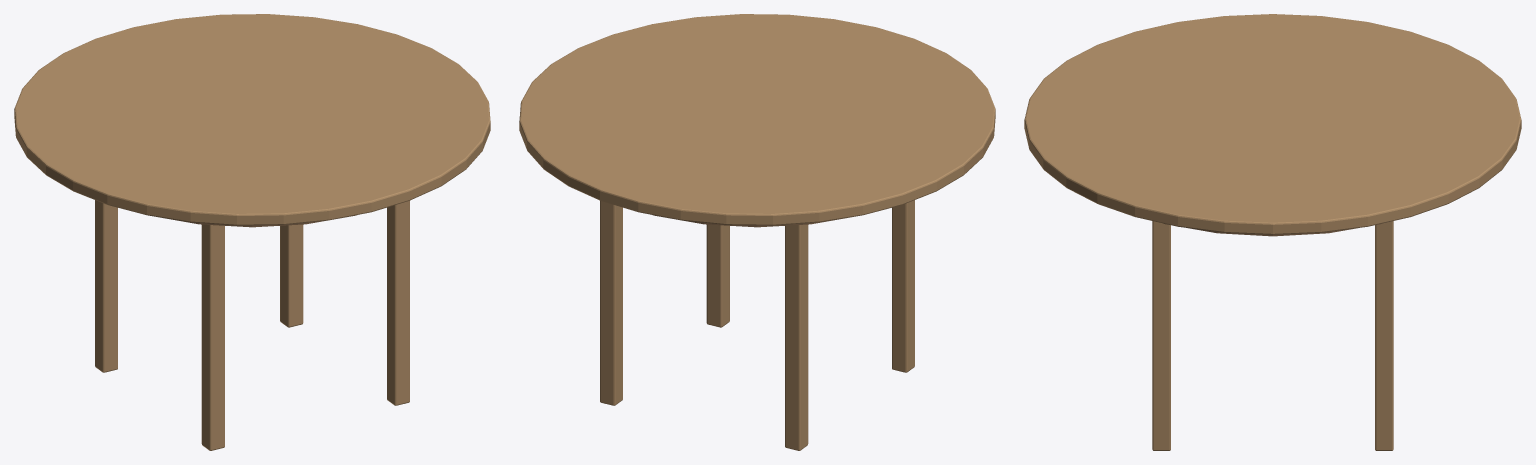
File: furniture-dining-table.glb
3 renders of one model, left to right at view 1: azimuth 30°, elevation 25°; view 2: azimuth 150°, elevation 25°; view 3: azimuth 270°, elevation 25°, orthographic. The views are drawn at different scales.
Visible parts, largest first — view 1: Top.001, Leg_2, Leg_3, Leg_1, Leg_0; view 2: Top.001, Leg_1, Leg_0, Leg_2, Leg_3; view 3: Top.001, Leg_0, Leg_3.
Part boxes in pixels (x1=…): Top.001: x1=14, y1=14, x2=490, y2=225; Leg_2: x1=201, y1=224, x2=224, y2=450; Leg_3: x1=387, y1=200, x2=409, y2=405; Leg_1: x1=95, y1=200, x2=117, y2=372; Leg_0: x1=280, y1=224, x2=303, y2=327; Top.001: x1=519, y1=14, x2=995, y2=225; Leg_1: x1=785, y1=224, x2=808, y2=450; Leg_0: x1=600, y1=200, x2=622, y2=405; Leg_2: x1=892, y1=200, x2=914, y2=372; Leg_3: x1=706, y1=224, x2=729, y2=327; Top.001: x1=1024, y1=14, x2=1521, y2=234; Leg_0: x1=1375, y1=221, x2=1393, y2=450; Leg_3: x1=1152, y1=221, x2=1170, y2=450.
Size of the model in its own units: 1.2 by 0.752 by 1.2.
